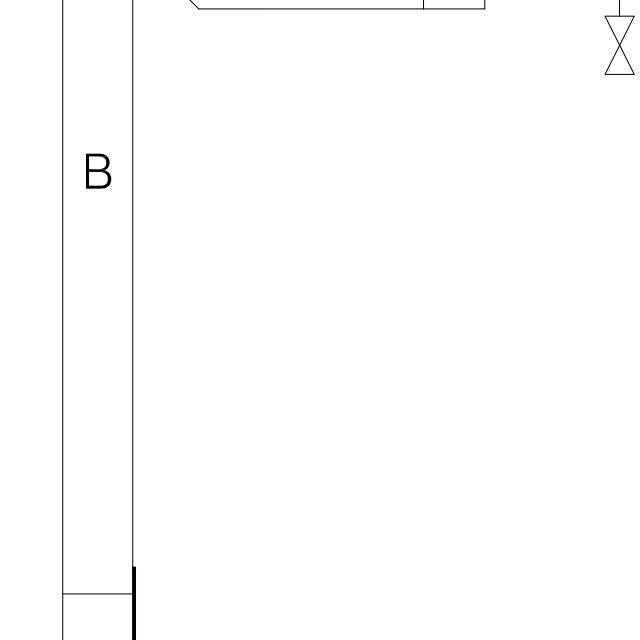GV: (601, 8, 638, 79)
